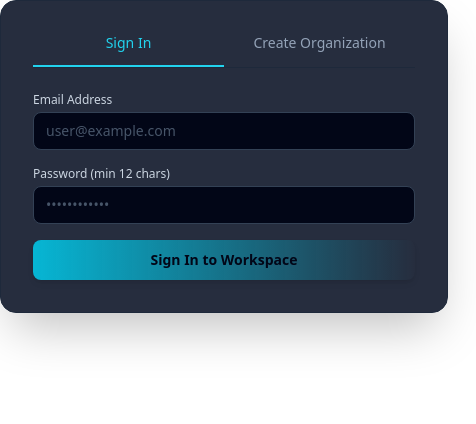
Scenario: AuthCard Component (A01-R10, A12-R01) › validates password length under 12 characters and displays alert
Type "alice@acme.corp" into the field labelled "Email Address". click: [224, 131]
box: [33,112,415,150]
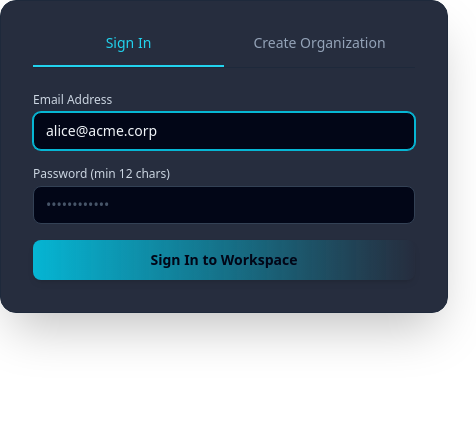
Type "shortpass" into the password field labelled "Password (min 12 chars)". click: [224, 205]
box: [33,186,415,224]
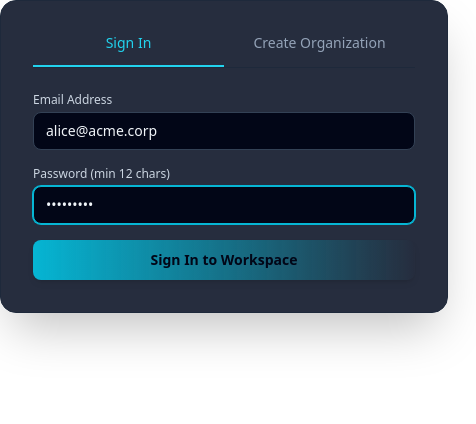
Click the button "Sign In to Workspace". click: [224, 260]
box: [33,240,415,280]
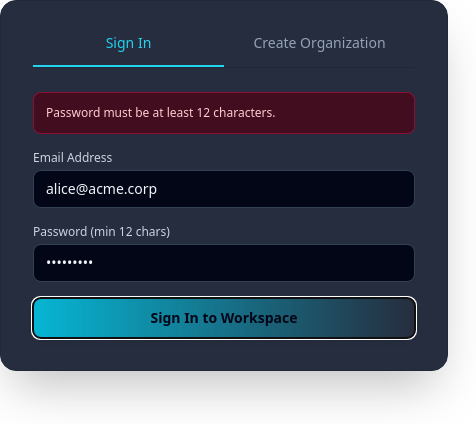
Expected: the message shows "Password must be at least 12 characters", [46,104,276,121]
